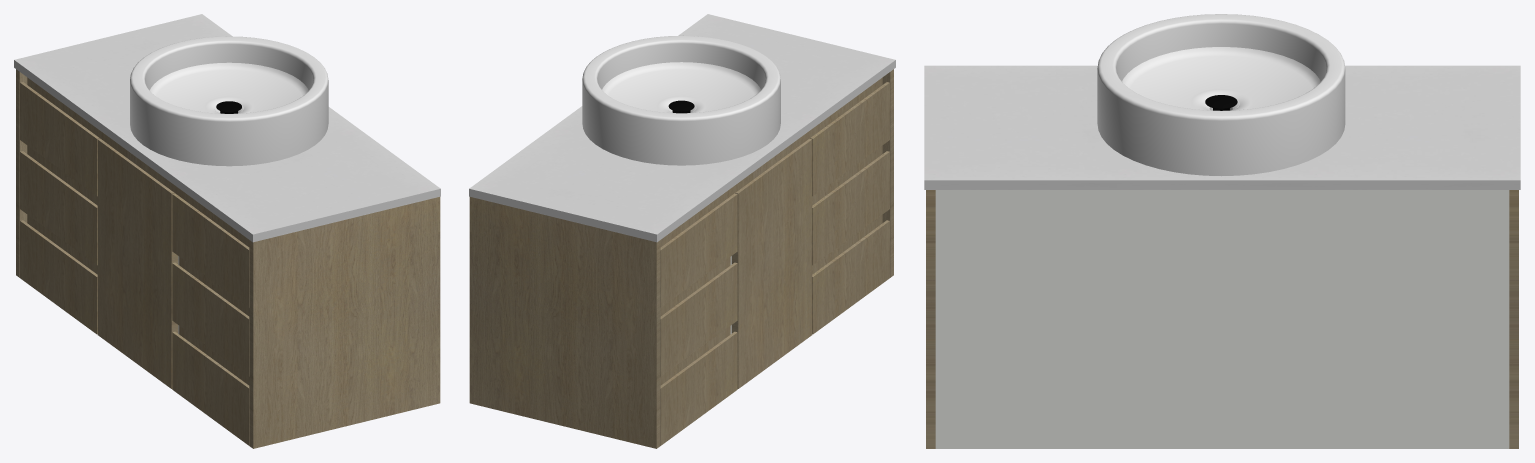
3 views of the same model, side by side, from view 1: azimuth 30°, elevation 25°; view 2: azimuth 150°, elevation 25°; view 3: azimuth 270°, elevation 25° (orthographic). The views are drawn at different scales.
Parts seen in each view (by area): view 1: Panel (×2), Bench_Top, Starck 1 Washbowl 044546, Door_RH, DF_1 (×2), DF_2 (×2), DF_3 (×2), Fingerpull_Rail (×5); view 2: Panel (×2), Bench_Top, Starck 1 Washbowl 044546, Door_RH, DF_1 (×2), DF_2 (×2), DF_3 (×2), Fingerpull_Rail (×5); view 3: Back (×3), Bench_Top, Starck 1 Washbowl 044546, End_RH (×3), End_LH (×3), Panel (×2).
Boxes of the visible parts, <box> form: Panel (×2): <box>16,69,440,448</box>; Bench_Top: <box>14,14,440,242</box>; Starck 1 Washbowl 044546: <box>130,36,328,166</box>; Door_RH: <box>97,138,178,388</box>; DF_1 (×2): <box>20,82,249,307</box>; DF_2 (×2): <box>20,151,249,376</box>; DF_3 (×2): <box>20,220,249,445</box>; Fingerpull_Rail (×5): <box>27,77,249,385</box>; Panel (×2): <box>469,69,893,448</box>; Bench_Top: <box>469,14,895,242</box>; Starck 1 Washbowl 044546: <box>582,35,780,165</box>; Door_RH: <box>731,138,812,388</box>; DF_1 (×2): <box>660,82,889,307</box>; DF_2 (×2): <box>660,151,889,376</box>; DF_3 (×2): <box>660,220,889,445</box>; Fingerpull_Rail (×5): <box>660,77,882,385</box>; Back (×3): <box>944,190,1500,448</box>; Bench_Top: <box>924,65,1520,189</box>; Starck 1 Washbowl 044546: <box>1097,14,1345,176</box>; End_RH (×3): <box>935,190,1324,448</box>; End_LH (×3): <box>1120,190,1509,448</box>; Panel (×2): <box>926,190,1518,448</box>.
Bounding box in the file's own units: 0.503 × 0.67 × 1.11.
14 materials, 2 textured.
